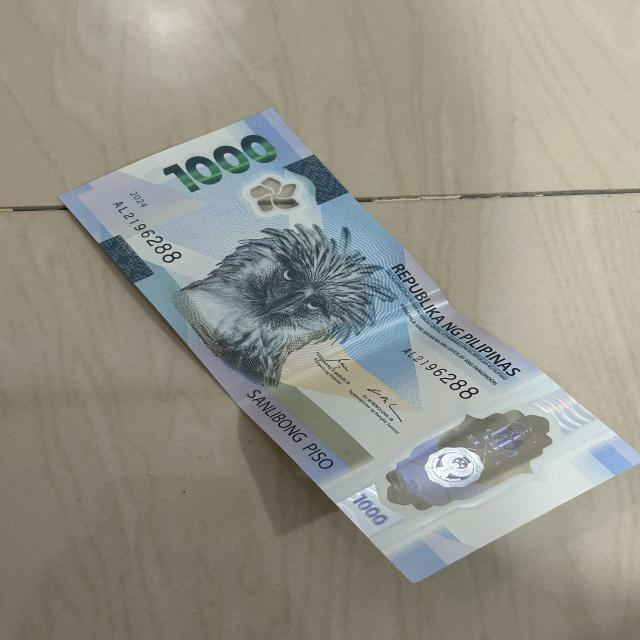clear_window: (382, 414, 574, 513)
eagle: (196, 222, 389, 379)
sampaguita: (238, 178, 314, 214)
serial_number: (398, 334, 492, 408), (113, 201, 194, 272)
